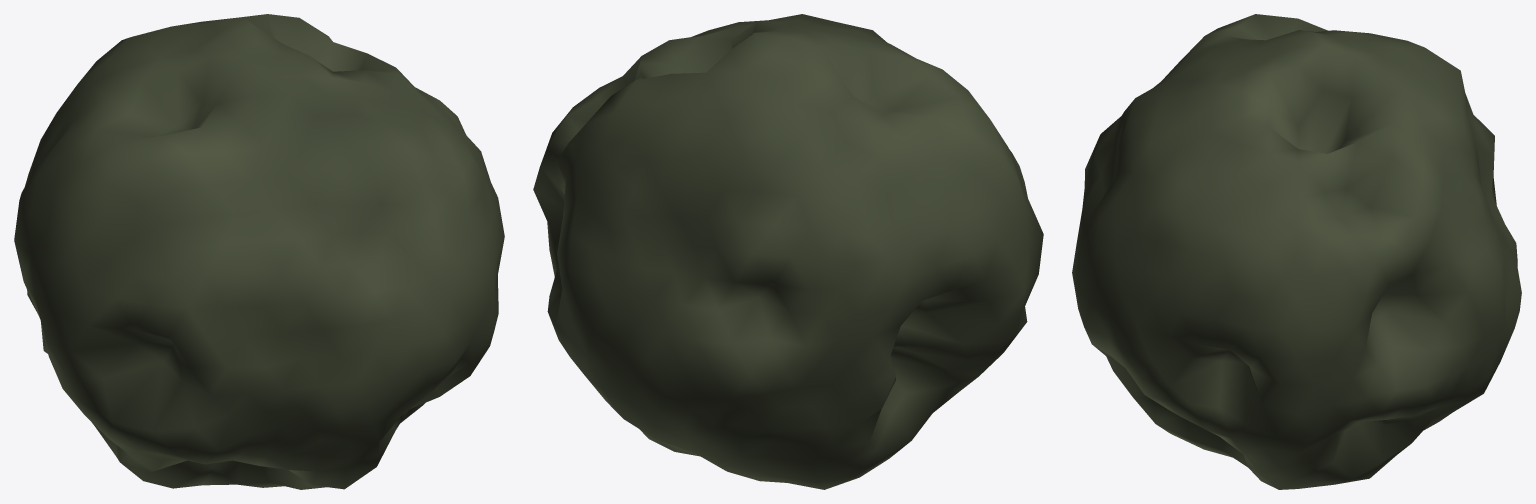
File: asteroid_25.glb
3 views of the same model, side by side, from view 1: azimuth 30°, elevation 25°; view 2: azimuth 150°, elevation 25°; view 3: azimuth 270°, elevation 25° (orthographic). The views are drawn at different scales.
Visible parts, largest first — view 1: Asteroid_25; view 2: Asteroid_25; view 3: Asteroid_25.
Part boxes in pixels (bbox=[...]): Asteroid_25: bbox=[14, 14, 504, 489]; Asteroid_25: bbox=[533, 14, 1043, 489]; Asteroid_25: bbox=[1072, 14, 1521, 489].
Bounding box in the file's own units: 2.2 × 2.07 × 2.
